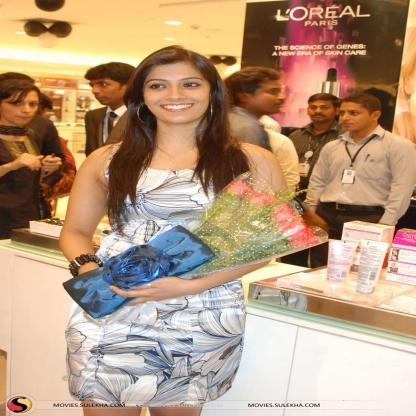face: (145, 65, 211, 122), (253, 75, 288, 118), (3, 93, 42, 125), (89, 77, 125, 106), (339, 107, 368, 132), (306, 101, 338, 123)
